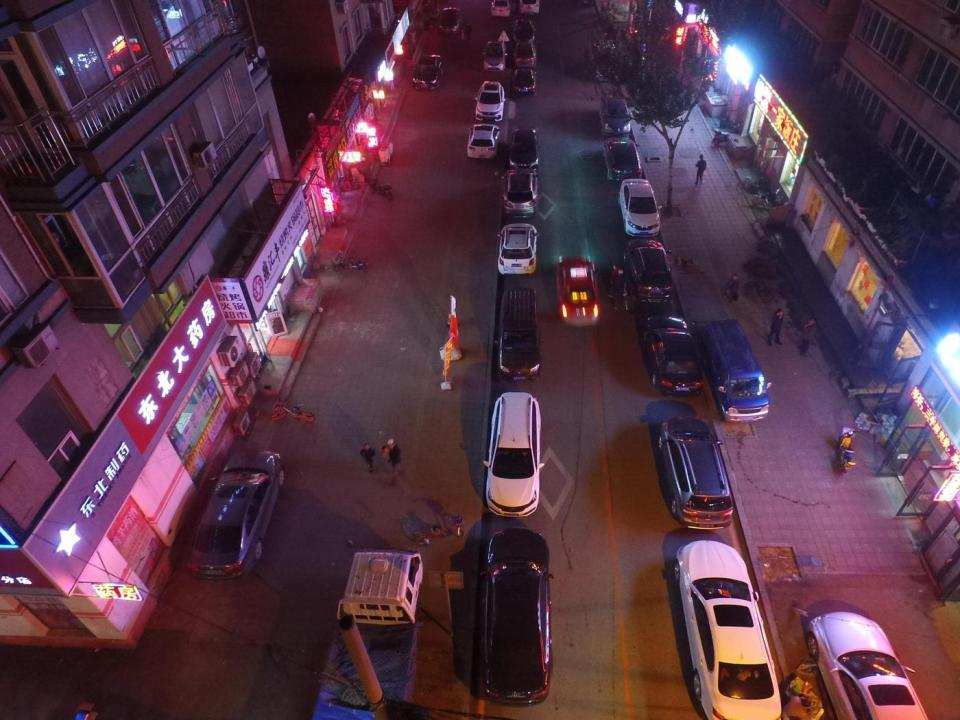car: (672, 540, 782, 720), (189, 447, 286, 582), (805, 611, 926, 719), (484, 526, 553, 706), (658, 414, 731, 528), (490, 392, 541, 517), (643, 313, 702, 397), (496, 288, 542, 381), (625, 239, 674, 301), (556, 257, 598, 327), (618, 177, 660, 238), (494, 222, 539, 274), (505, 169, 541, 218), (603, 136, 640, 180), (509, 125, 540, 172), (598, 94, 629, 136), (476, 81, 505, 122), (468, 122, 498, 161), (592, 38, 618, 82), (483, 42, 507, 70), (513, 70, 537, 98), (440, 7, 461, 35), (514, 43, 536, 69), (514, 19, 534, 43), (490, 0, 511, 17), (518, 0, 540, 16)
truck: (310, 546, 422, 720)
van: (702, 321, 768, 422)
